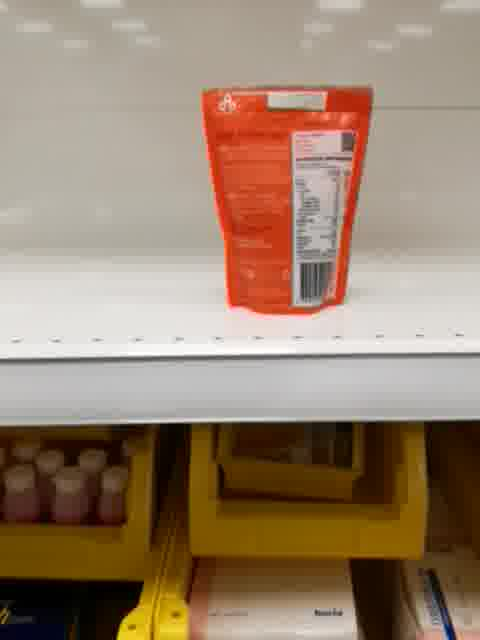whitechia: (201, 84, 375, 319)
